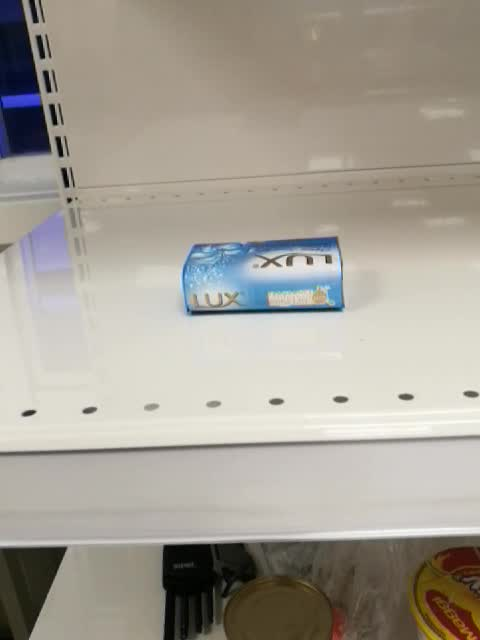soap: (181, 233, 346, 316)
